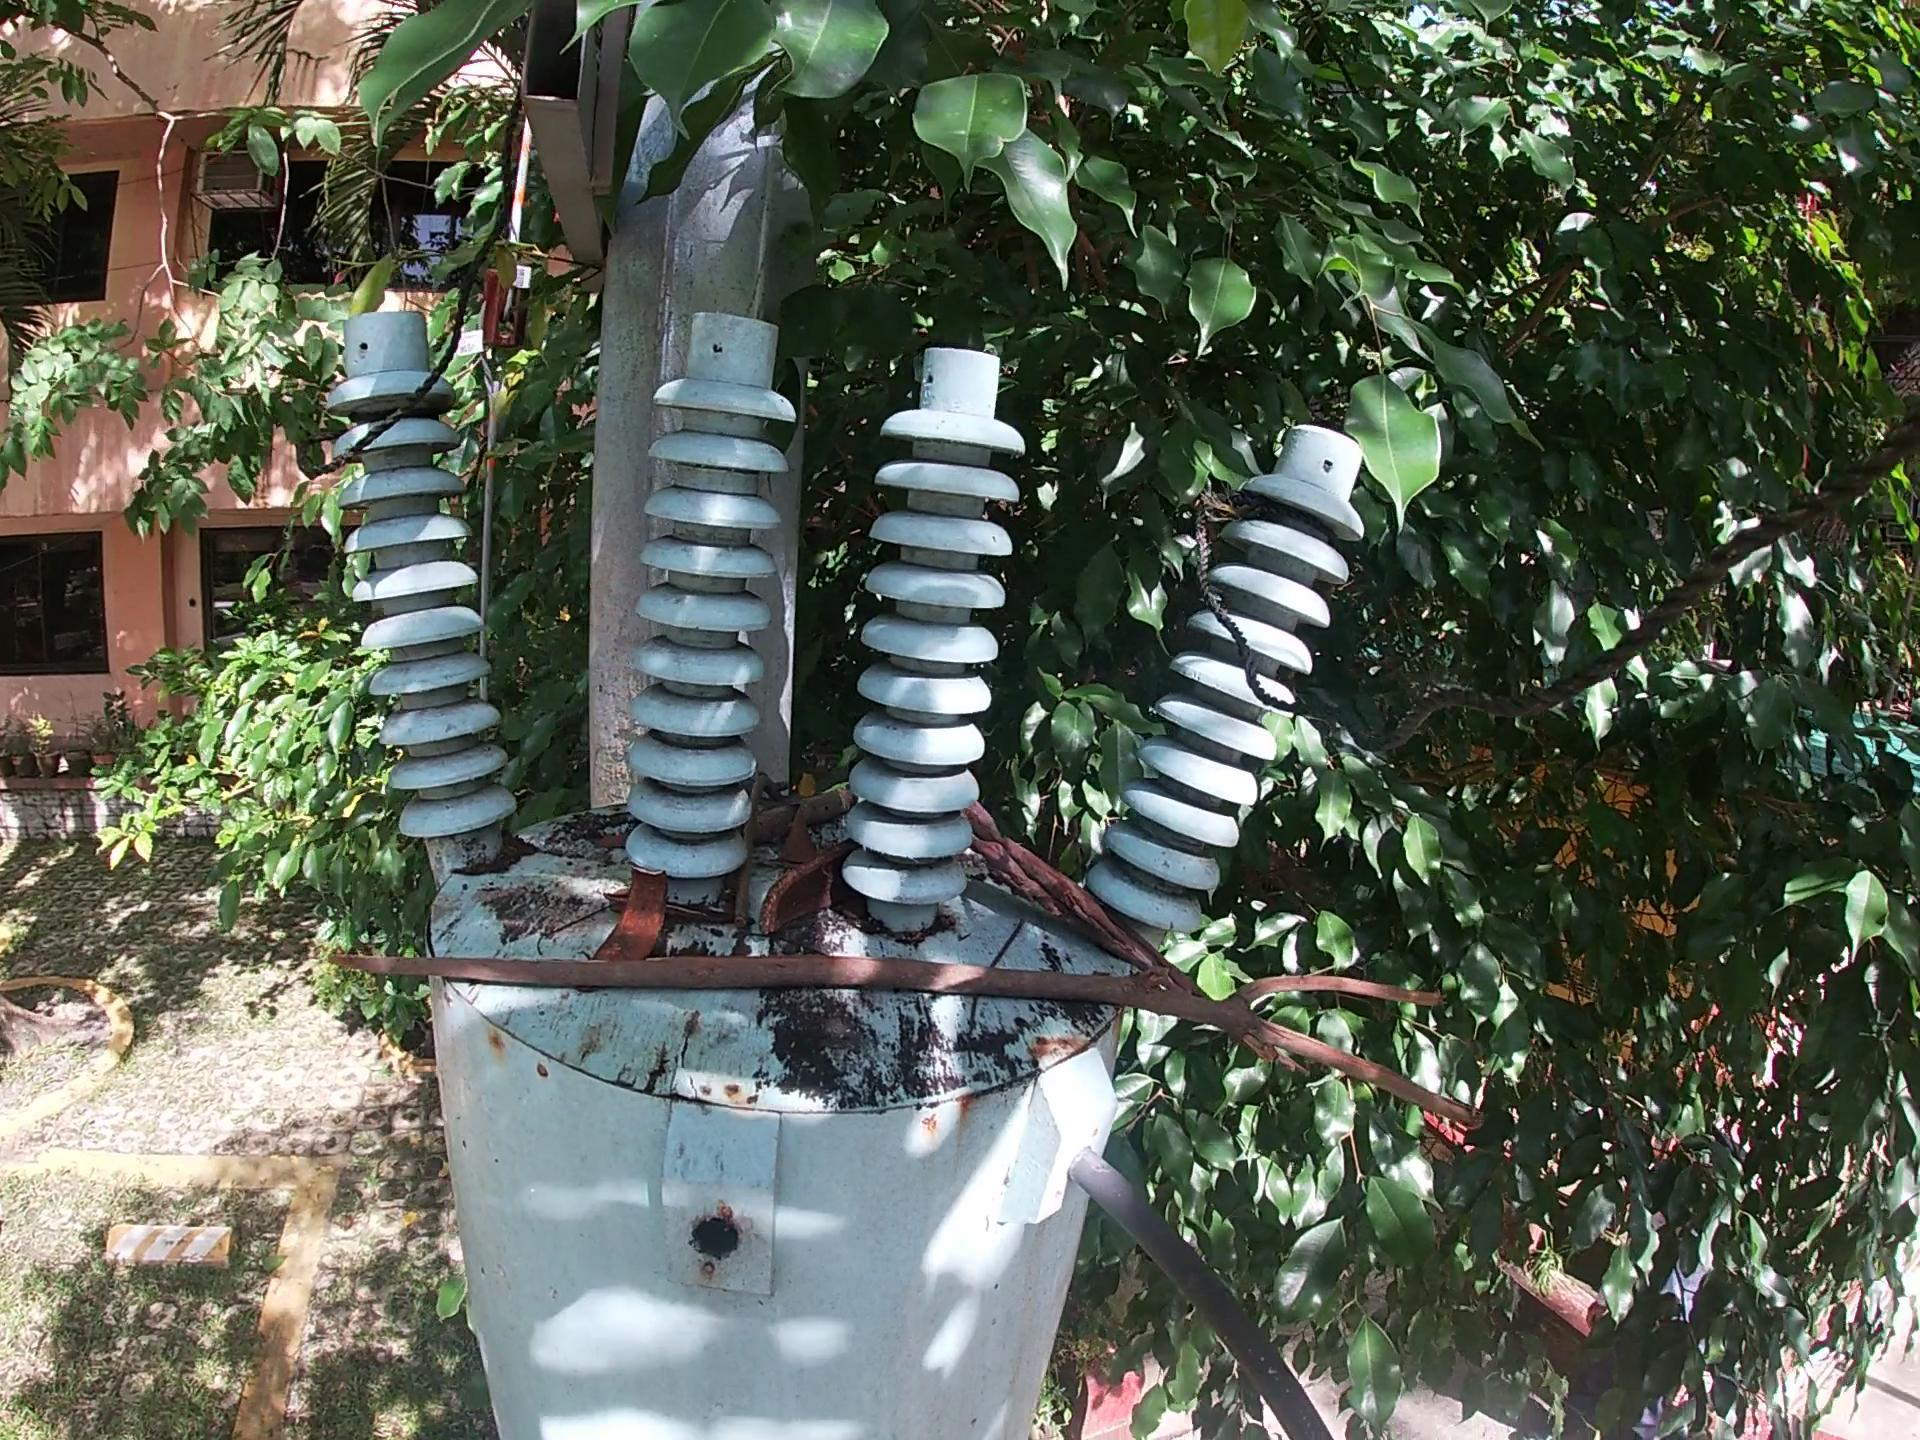leaf: (782, 809, 816, 855), (584, 830, 633, 852)
mahogany fruit: (745, 844, 854, 947), (574, 867, 677, 964)
tree branch: (304, 939, 1485, 1125), (958, 800, 1194, 989), (957, 920, 1030, 1042), (742, 782, 856, 850), (738, 774, 785, 929), (528, 903, 621, 956), (667, 898, 736, 929)
